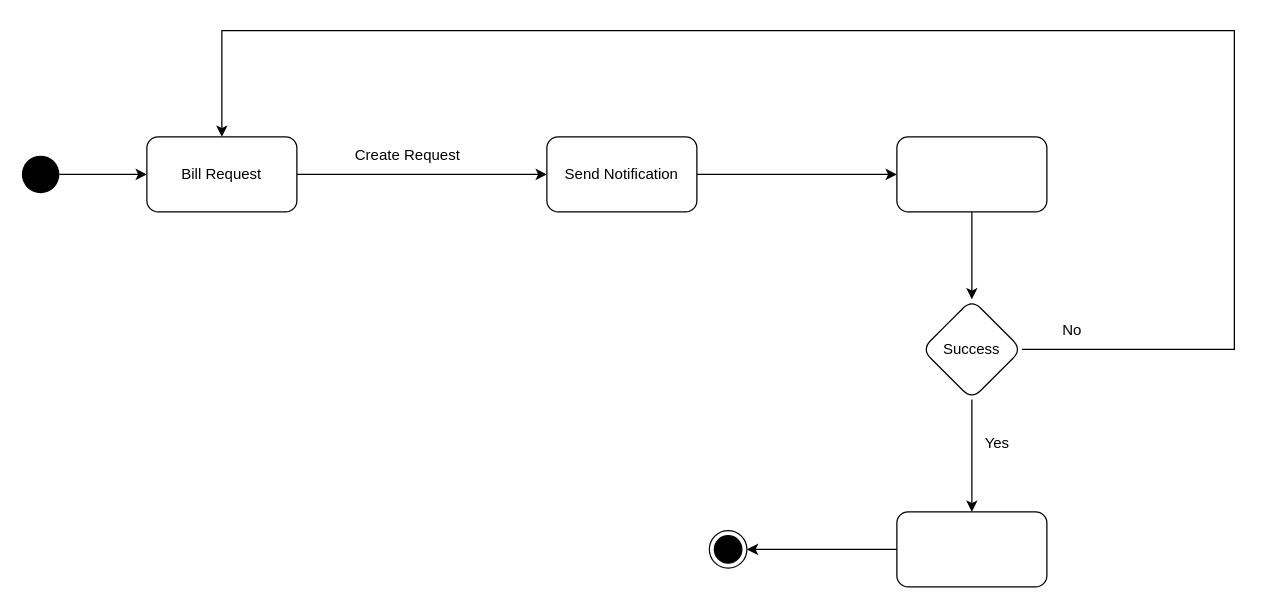
The diagram is 1266 pixels wide and 609 high, and some of its shapes have lost their labels. Each missing label, with the box of its shape:
Bill Form: (896, 136, 1047, 212)
Display: (896, 511, 1047, 587)
